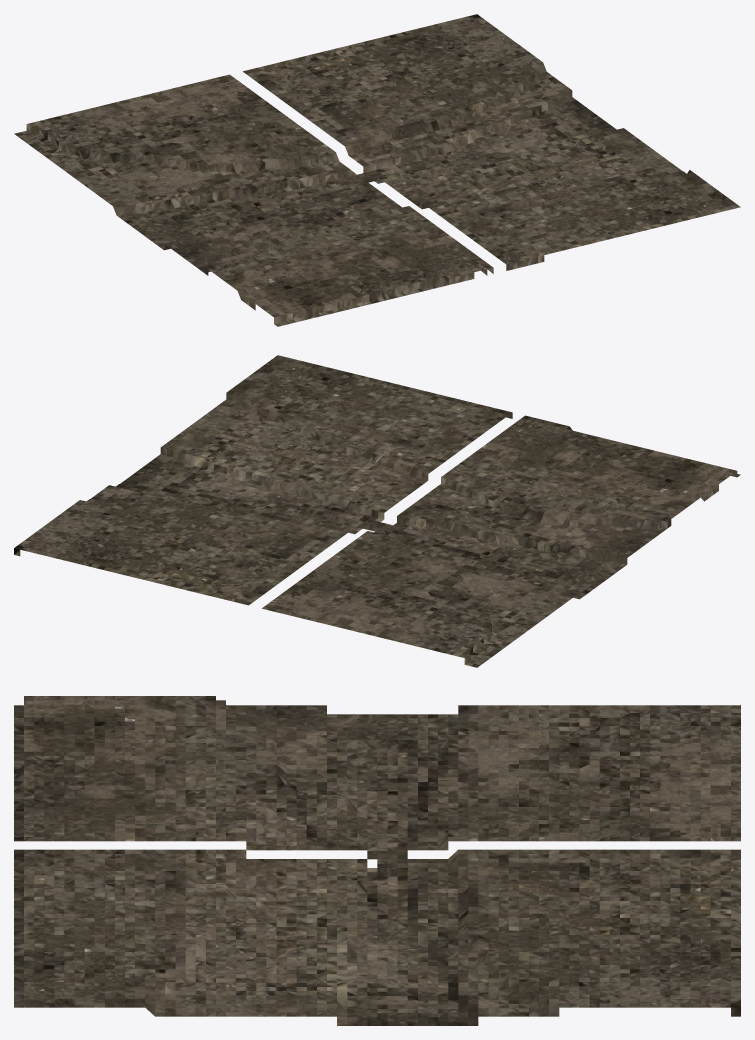
3 renders of one model, top to bottom at view 1: azimuth 30°, elevation 25°; view 2: azimuth 150°, elevation 25°; view 3: azimuth 270°, elevation 25°, orthographic. The views are drawn at different scales.
Parts seen in each view (by area): view 1: Tierra; view 2: Tierra; view 3: Tierra.
Part boxes in pixels (x1,y1,x2,y2): Tierra: (14, 14, 740, 326); Tierra: (14, 355, 740, 667); Tierra: (14, 696, 740, 1025).
Bounding box in the file's own units: 452 × 12.39 × 446.
1 material, 1 textured.
